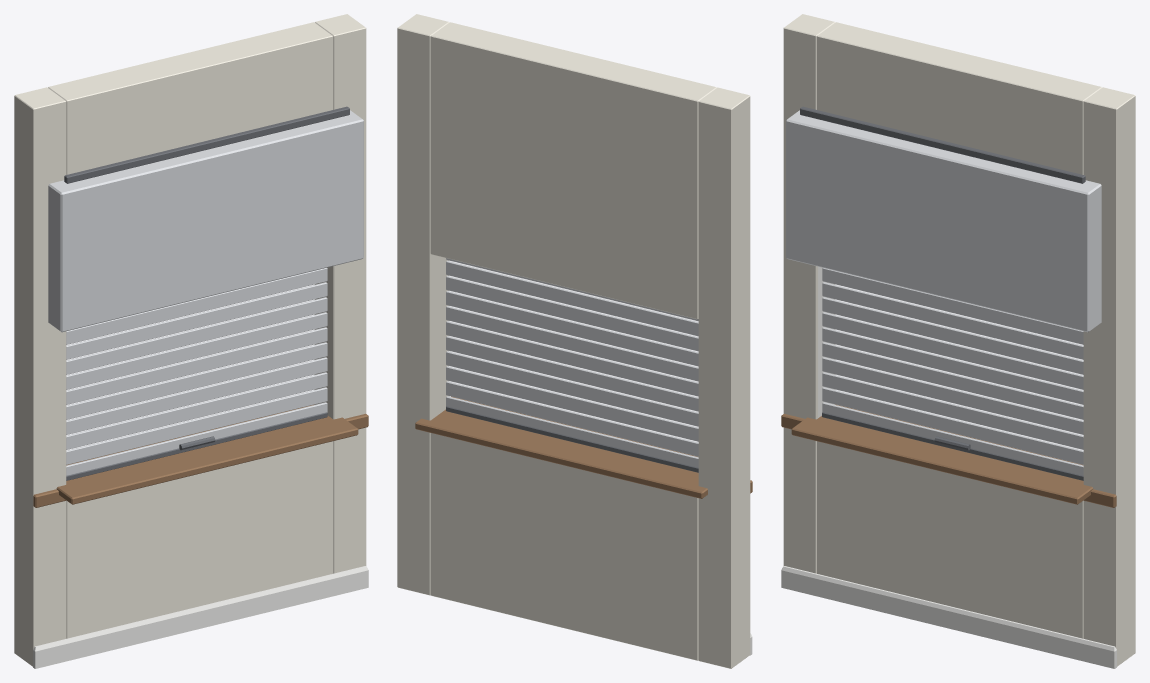
3 views of the same model, side by side, from view 1: azimuth 30°, elevation 25°; view 2: azimuth 150°, elevation 25°; view 3: azimuth 330°, elevation 25° (orthographic).
Parts seen in each view (by area): view 1: serving-hatch-module, hatch-shutter/metal, hatch-shutter/frame; view 2: serving-hatch-module, hatch-shutter/metal, hatch-shutter/frame; view 3: serving-hatch-module, hatch-shutter/metal, hatch-shutter/frame.
Boxes of the visible parts, x1=… form: serving-hatch-module: x1=14, y1=14, x2=368, y2=668; hatch-shutter/metal: x1=66, y1=268, x2=327, y2=475; hatch-shutter/frame: x1=66, y1=412, x2=327, y2=480; serving-hatch-module: x1=397, y1=14, x2=752, y2=668; hatch-shutter/metal: x1=446, y1=258, x2=698, y2=467; hatch-shutter/frame: x1=446, y1=406, x2=698, y2=472; serving-hatch-module: x1=781, y1=14, x2=1135, y2=668; hatch-shutter/metal: x1=822, y1=268, x2=1083, y2=475; hatch-shutter/frame: x1=822, y1=412, x2=1083, y2=480.
Bounding box in the file's own units: 2 × 3.2 × 0.4199.
